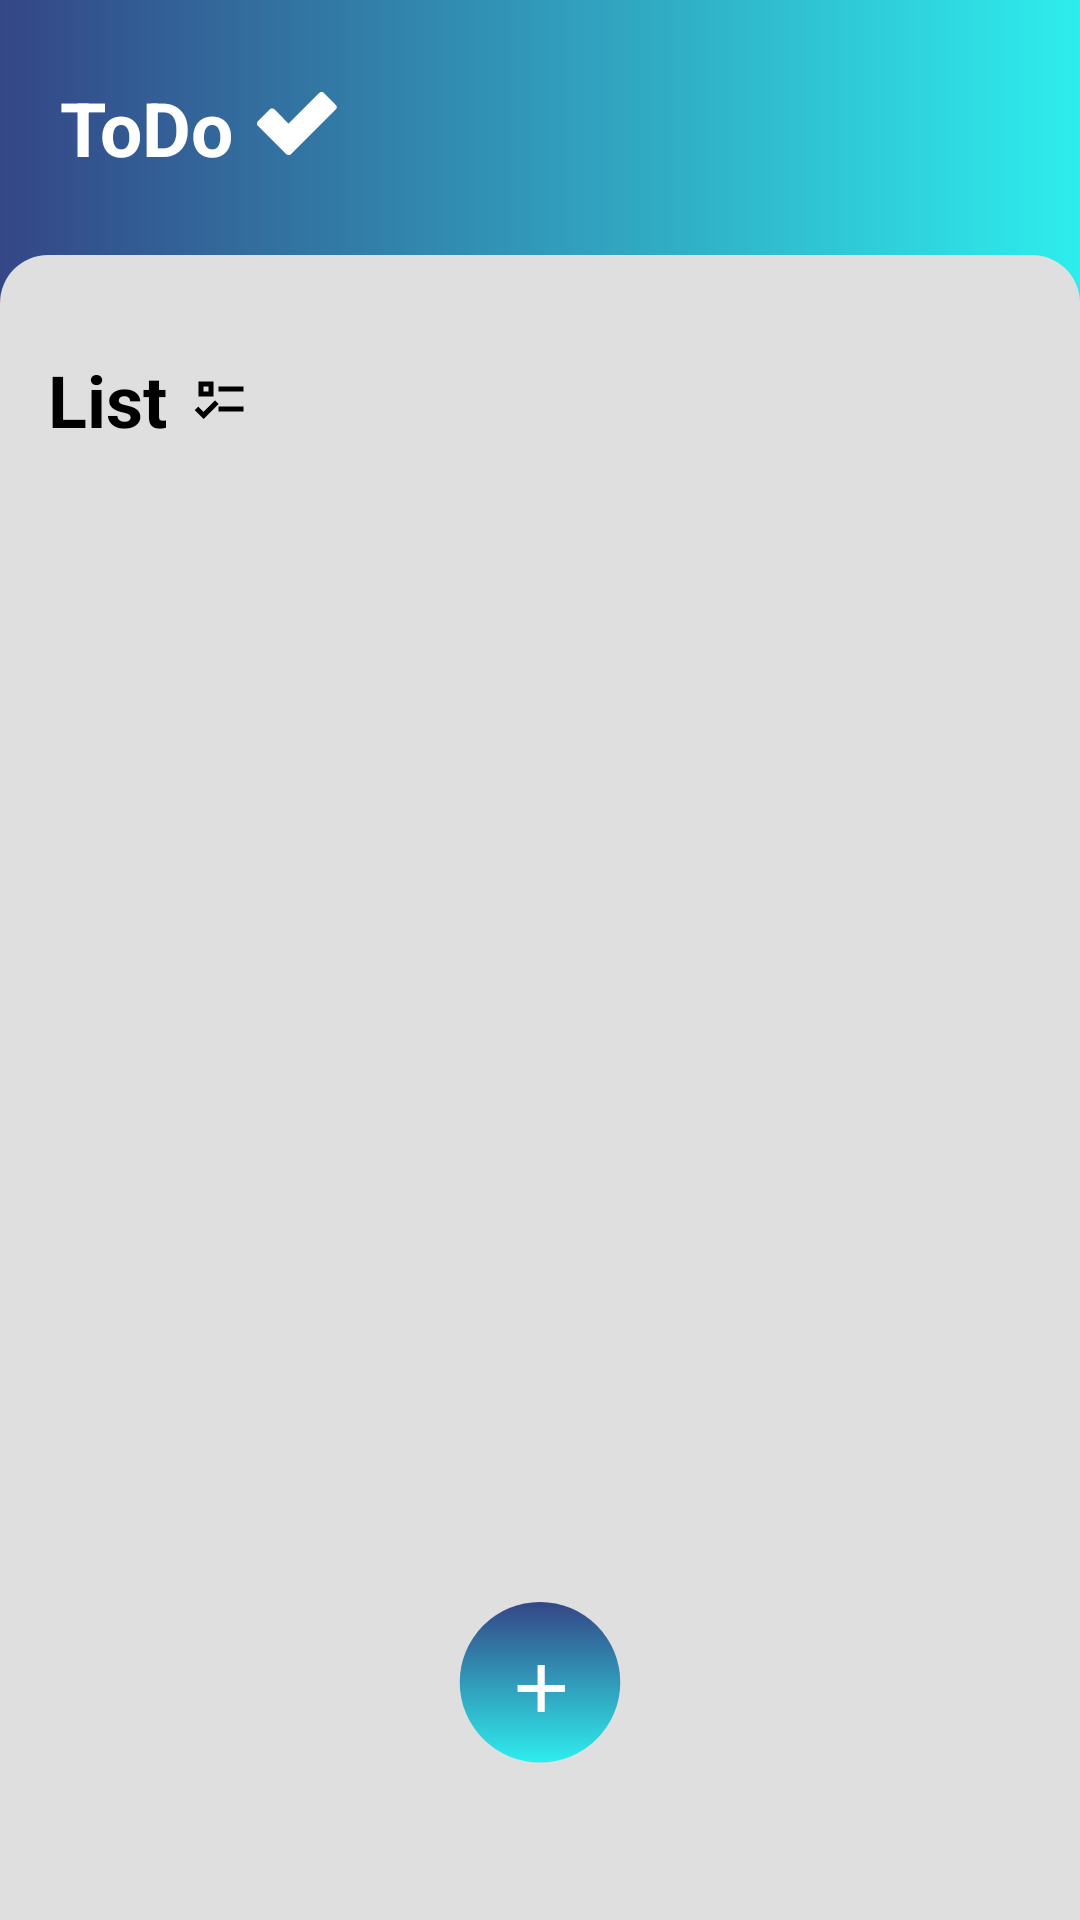

Where icons sit on this 1080px×1920px app screen, as [x1, y1, x2, y2]:
check: [257, 92, 337, 155]
